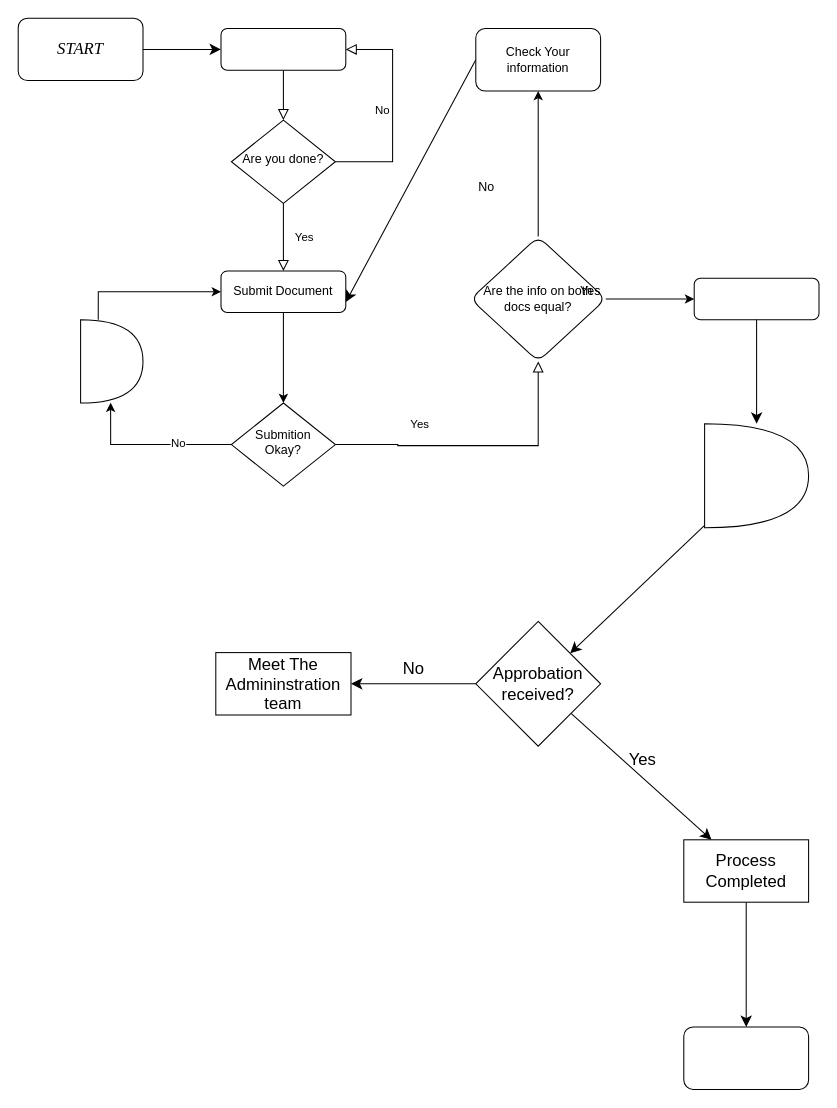
The diagram is 837 pixels wide and 1108 high, and some of its shapes have lost their labels. Each missing label, with the centre of its shape:
"END" goes at pixel 746 1057.
"Fill online Document" goes at pixel 283 49.
"Submit the physical Document" goes at pixel 756 298.
"Wait 5 to 10 mins" goes at pixel 111 361.
"Wait for approbation by email" goes at pixel 756 475.
